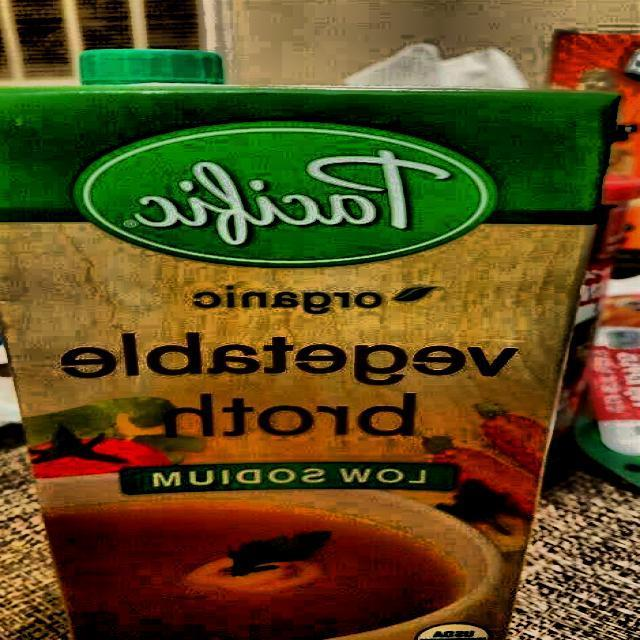cardboard: (0, 80, 623, 640)
